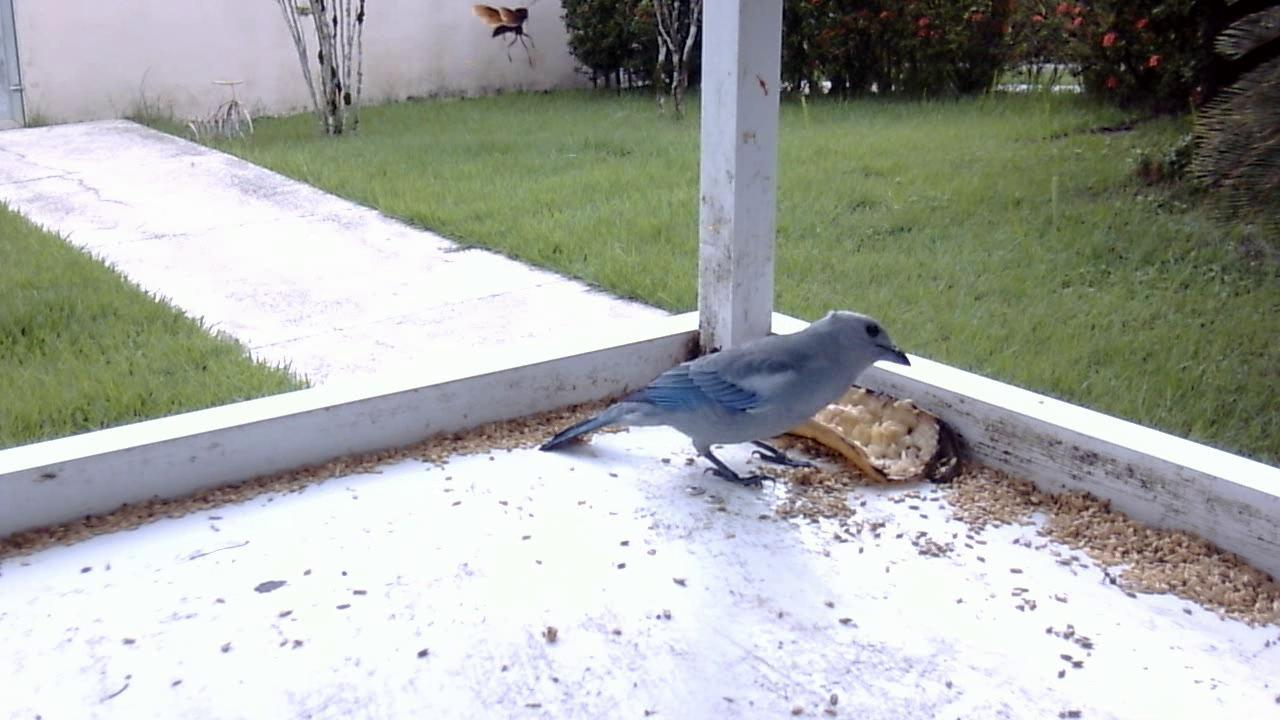sanhaco_da_amazonia: (542, 305, 915, 496)
